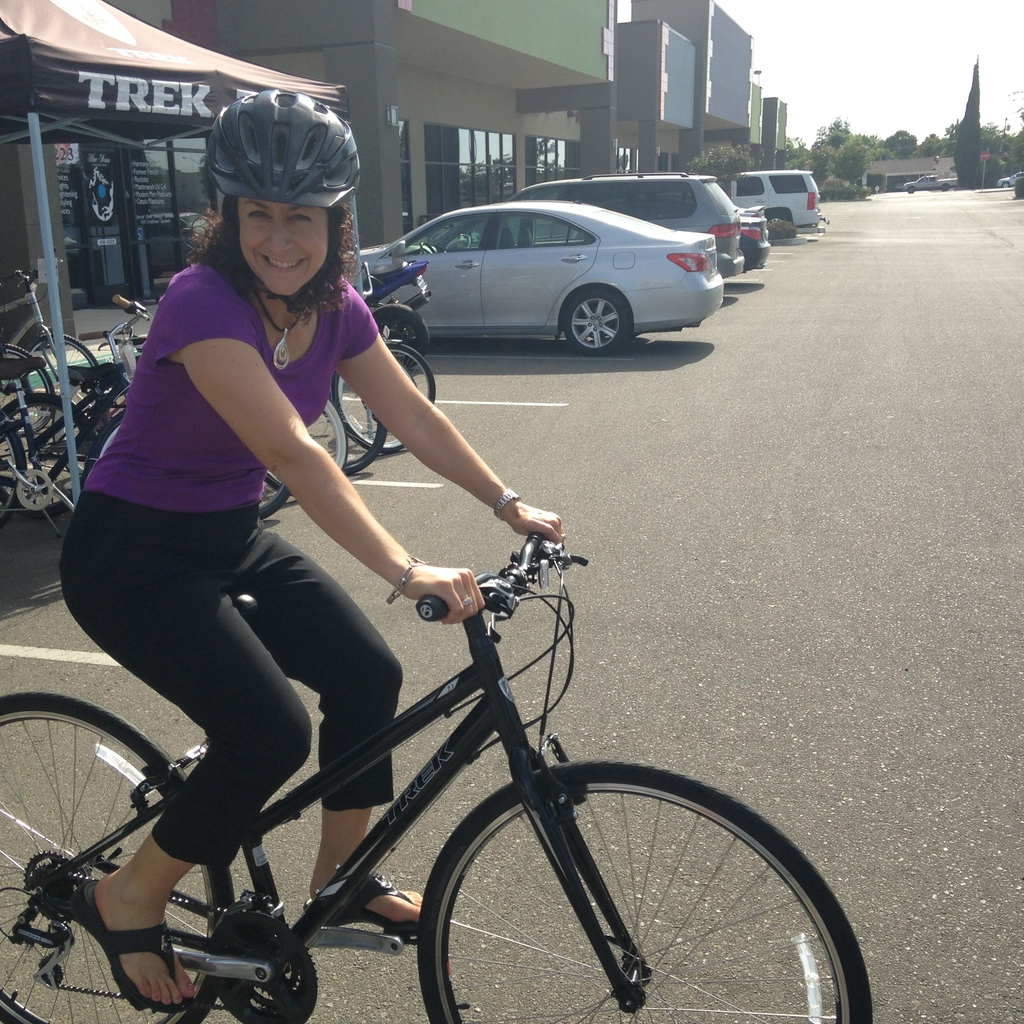Car: (341, 199, 718, 344), (428, 160, 768, 282), (718, 170, 823, 242)
